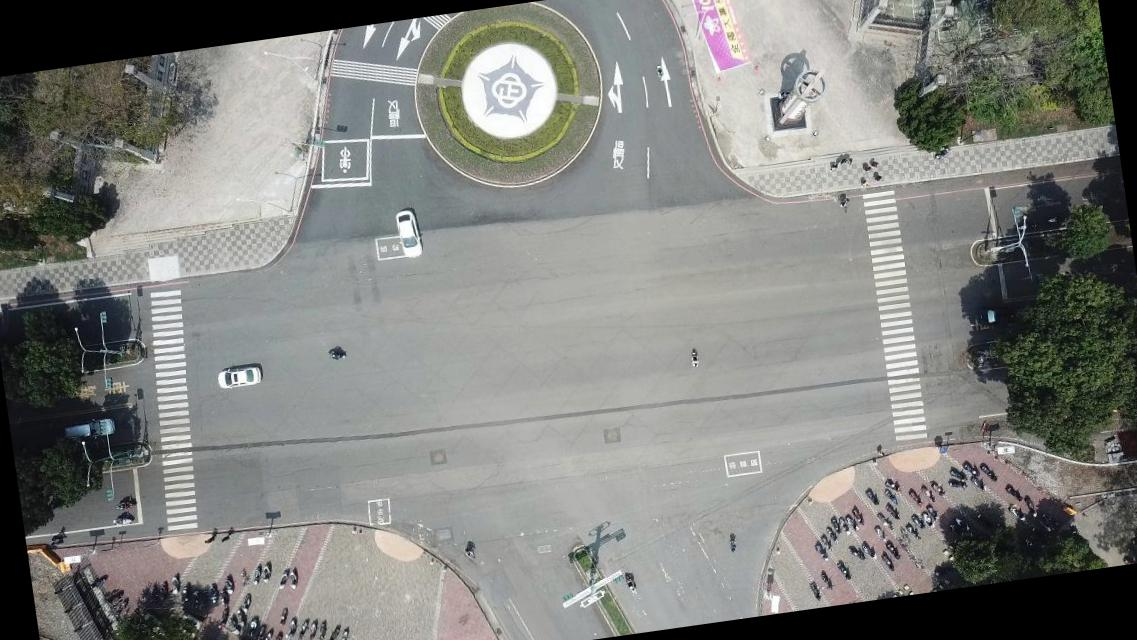vehicle: (392, 207, 424, 261), (63, 416, 118, 444), (216, 364, 264, 391), (980, 302, 1026, 330)
